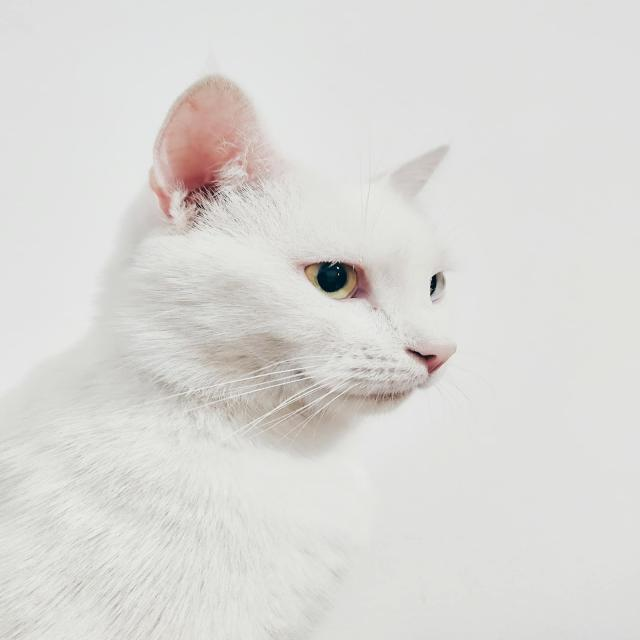Cat: (1, 72, 477, 638)
